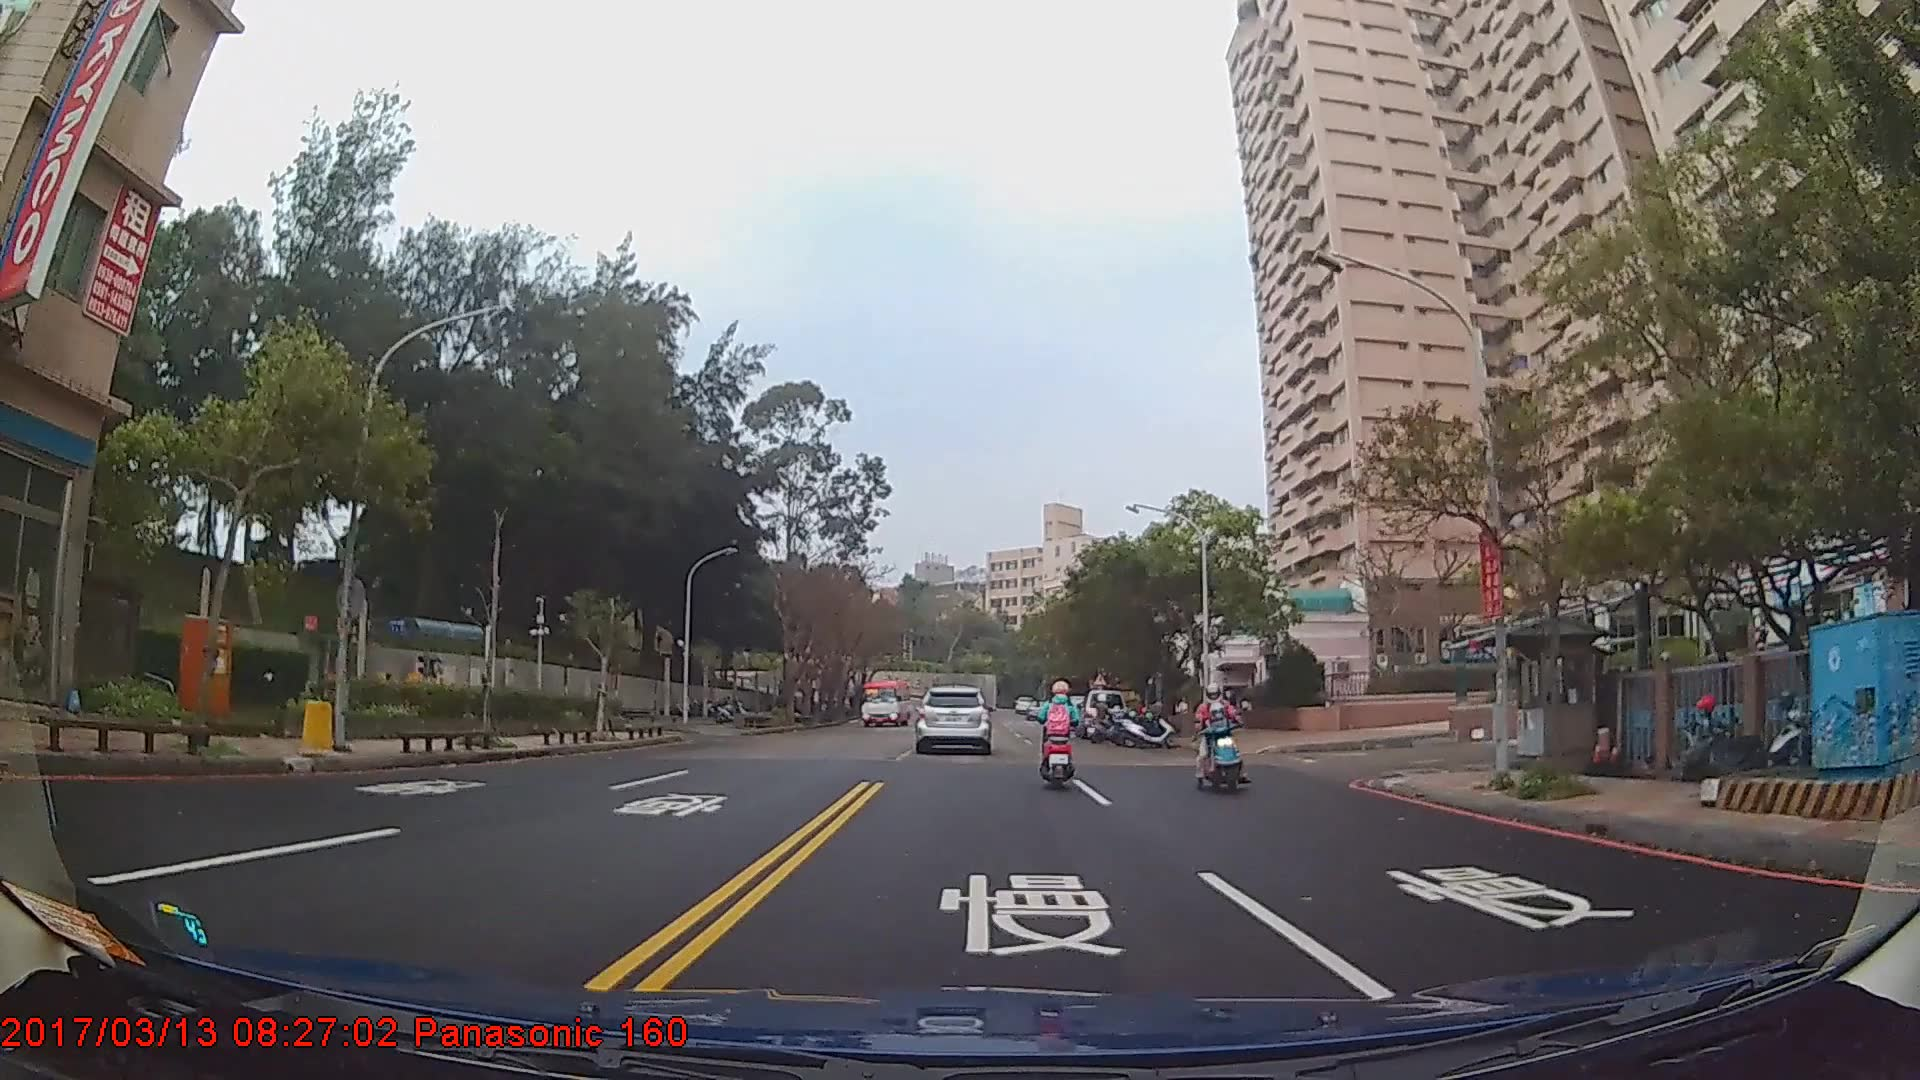rider: (1193, 682, 1246, 791), (1036, 678, 1079, 792), (1086, 692, 1121, 742)
vehicle: (913, 685, 990, 755), (862, 677, 913, 729), (1077, 689, 1127, 739)
